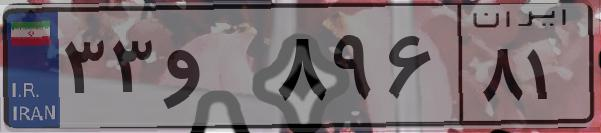1: (525, 38, 570, 115)
3: (57, 26, 110, 100), (110, 28, 158, 98)
6: (385, 28, 445, 110)
8: (270, 28, 330, 110), (475, 38, 525, 113)
9: (330, 28, 385, 110)
و: (158, 20, 270, 120)
